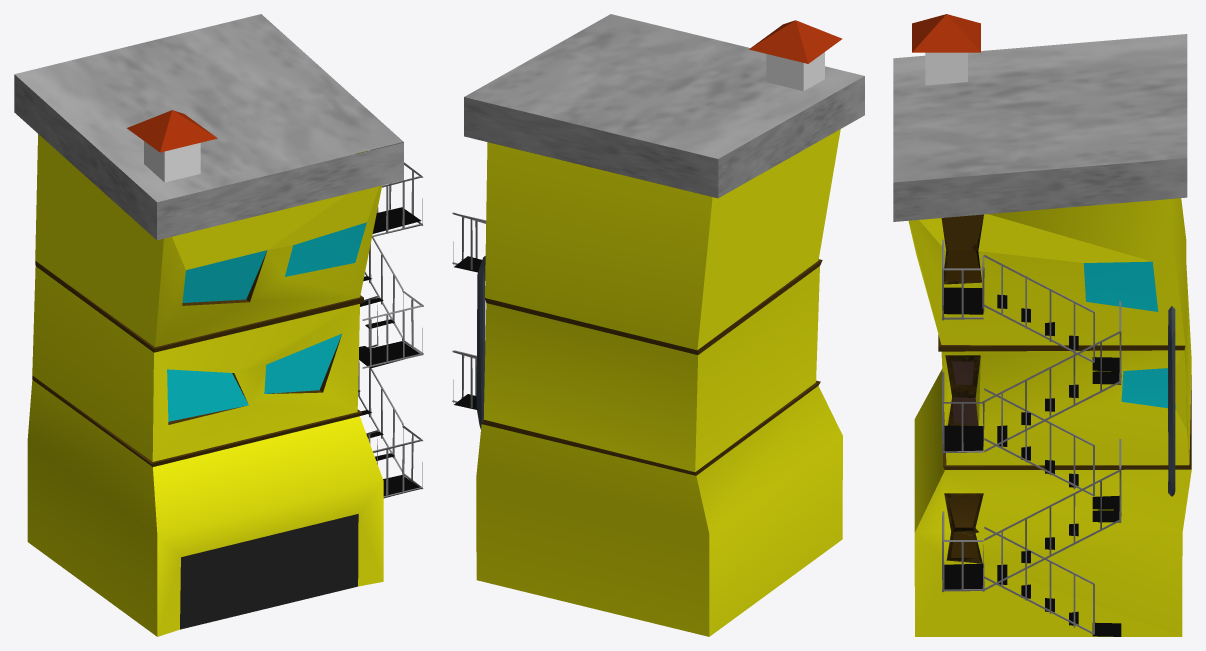
The model's file is PredioTorto-AmareloLOD1.fbx.
3 views of the same model, side by side, from view 1: azimuth 30°, elevation 25°; view 2: azimuth 150°, elevation 25°; view 3: azimuth 270°, elevation 25° (orthographic). The views are drawn at different scales.
Parts seen in each view (by area): view 1: Predio3AndaresLOD1; view 2: Predio3AndaresLOD1; view 3: Predio3AndaresLOD1.
Boxes of the visible parts, x1,y1,x2,y2 form: Predio3AndaresLOD1: [14, 14, 423, 636]; Predio3AndaresLOD1: [452, 14, 864, 636]; Predio3AndaresLOD1: [893, 14, 1191, 636].
Bounding box in the file's own units: 1035 × 1727 × 892.
